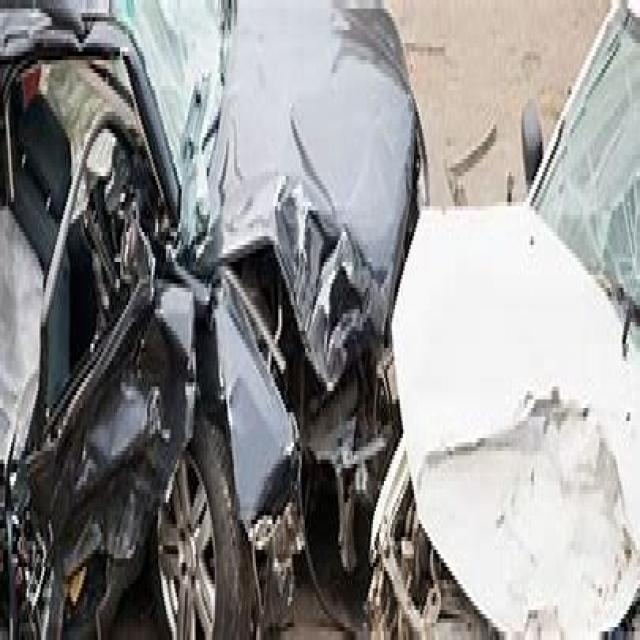Accident: (27, 4, 638, 640)
